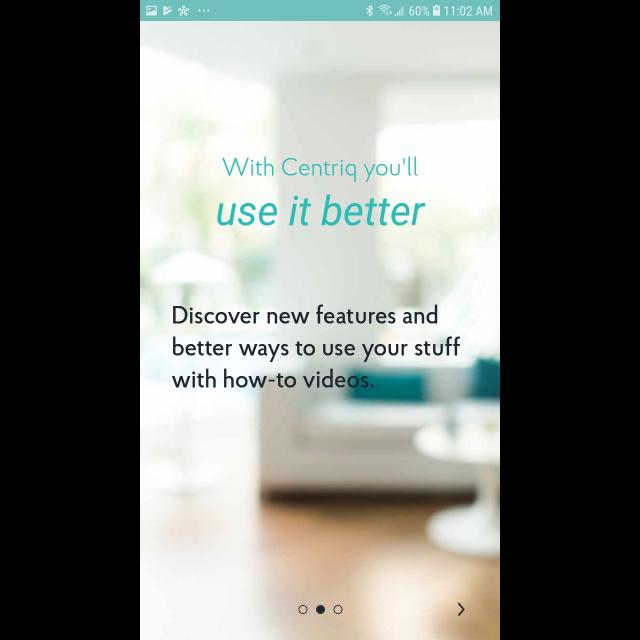backgroundimage: (140, 22, 500, 640)
icon: (458, 603, 464, 617)
pageindicator: (298, 605, 342, 615)
text: (173, 304, 461, 388), (218, 194, 427, 226), (222, 156, 418, 184)
uppertaskbar: (140, 1, 500, 22)
